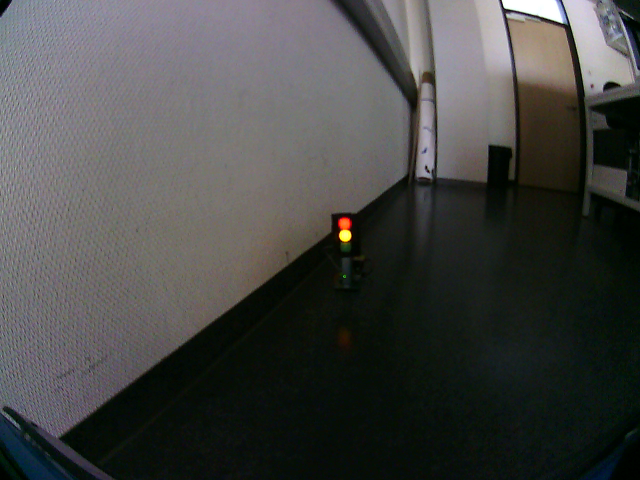red yellow trafficlight: (337, 217, 353, 251)
